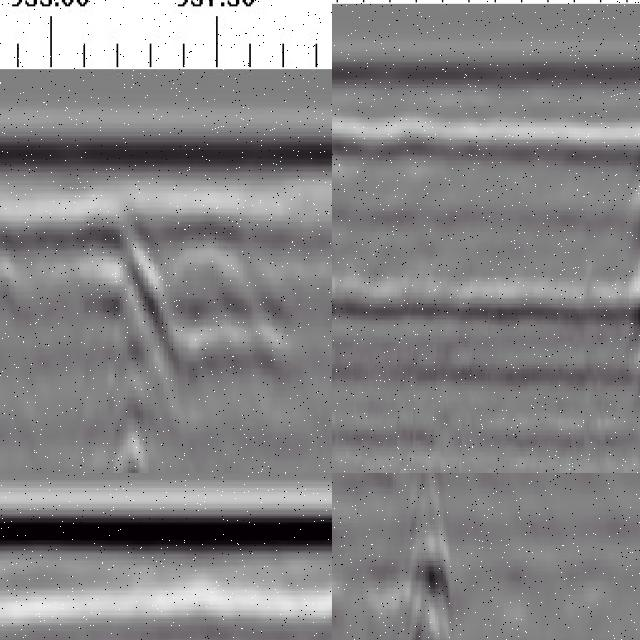crack: (86, 194, 169, 474), (403, 474, 454, 640), (626, 127, 640, 441)
